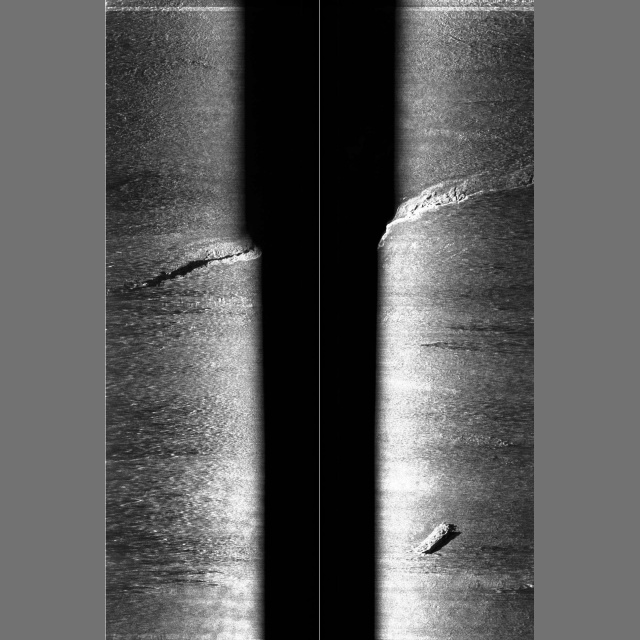Shipwreck: (405, 522, 450, 556)
